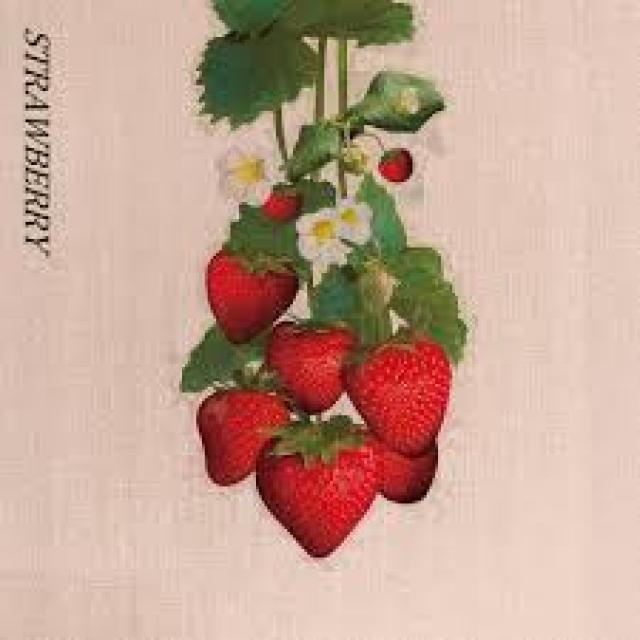strawberry: (188, 211, 312, 362), (257, 420, 384, 556), (349, 330, 462, 452)
